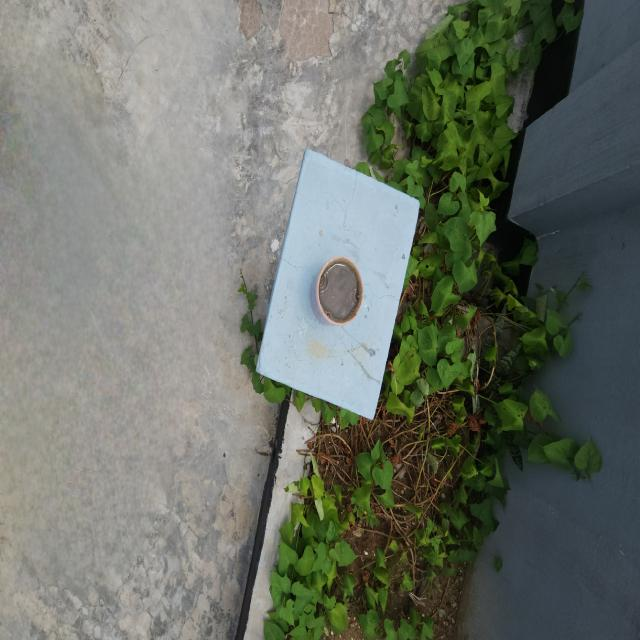Breeding Place: (231, 0, 595, 640), (312, 256, 366, 330)
